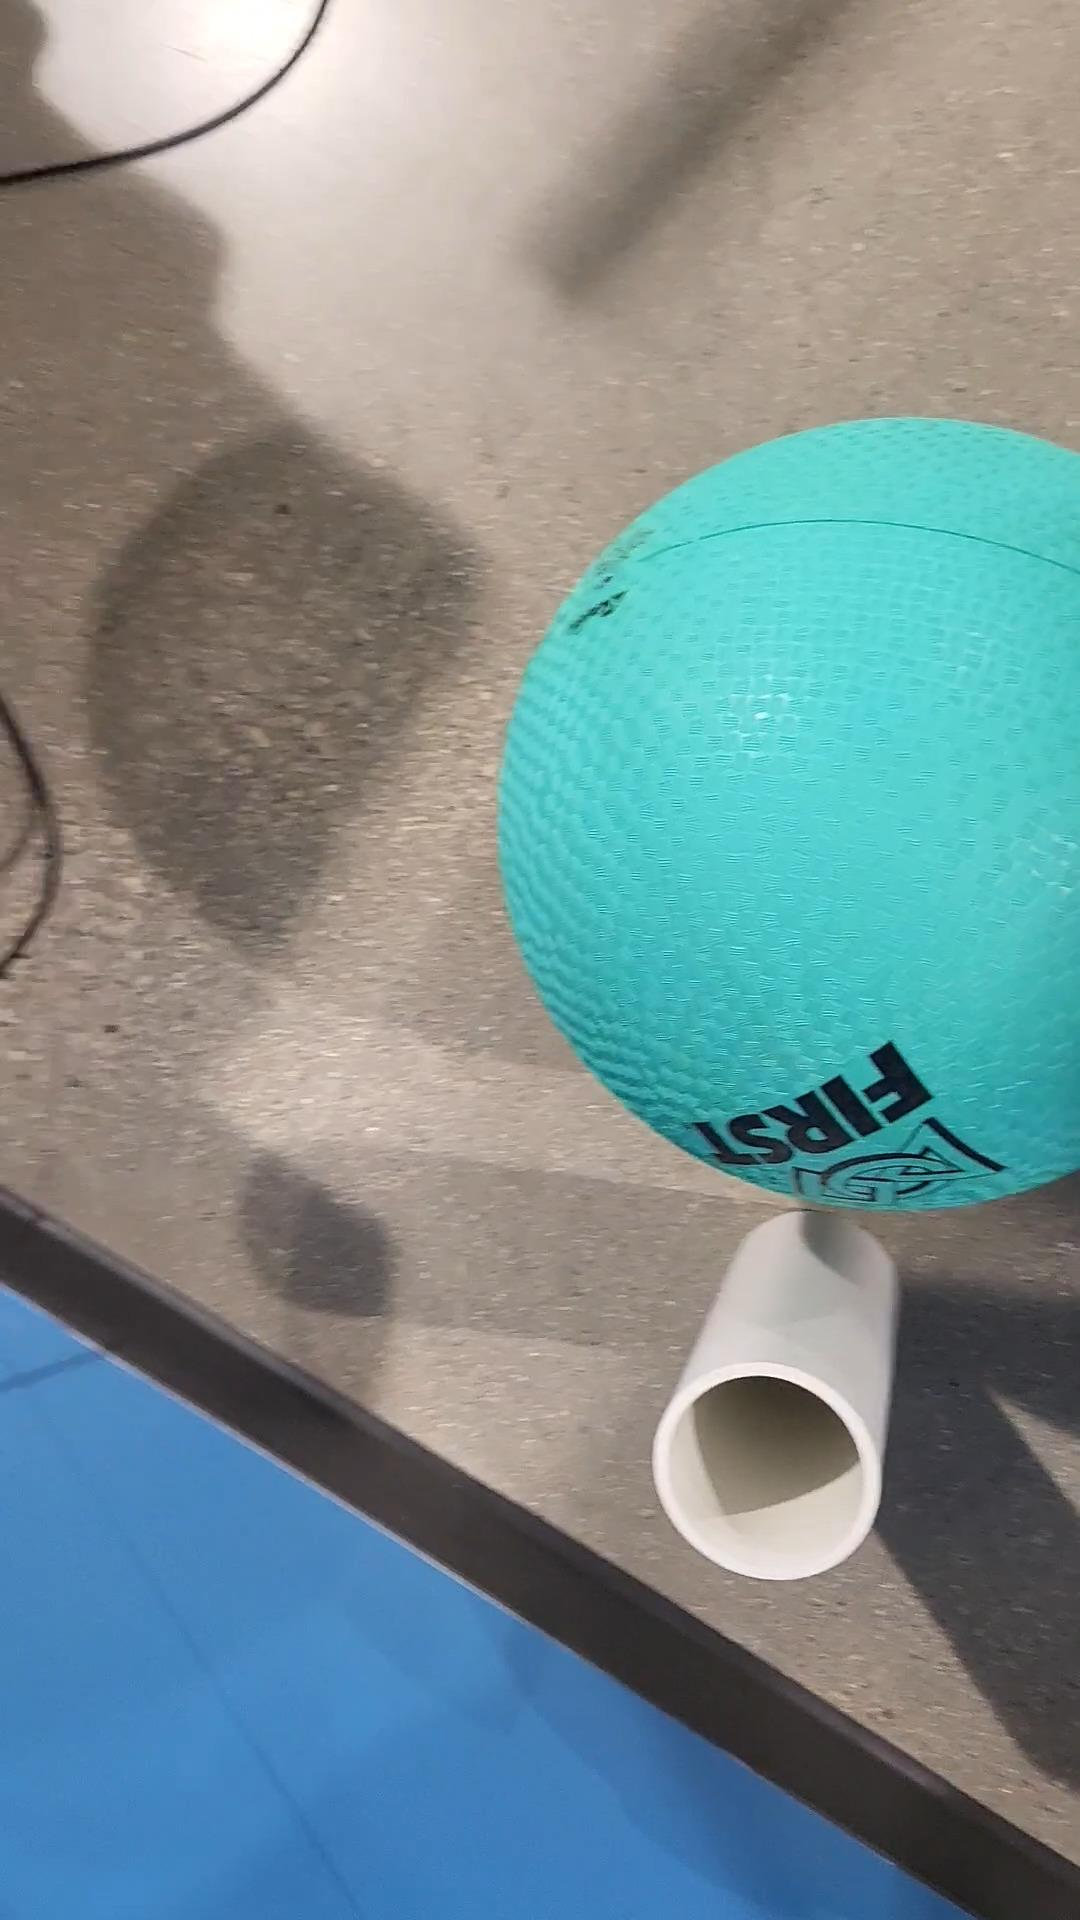algae: (491, 417, 1080, 1217)
coral: (646, 1188, 916, 1597)
